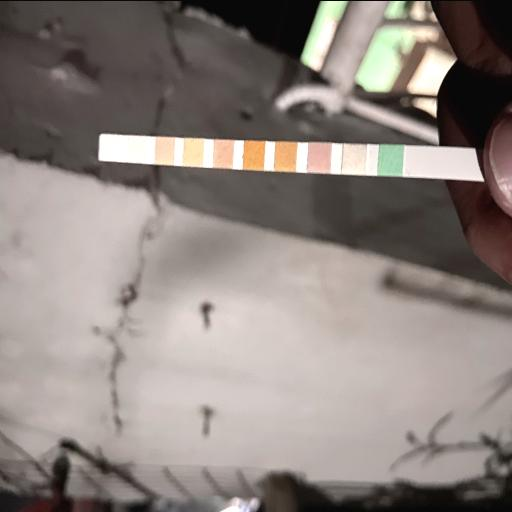Bilirubin: (344, 144, 366, 172)
Blood: (244, 142, 264, 166)
Glucose: (380, 145, 402, 173)
Ketone: (310, 142, 330, 170)
Leukocytes: (101, 134, 117, 158)
Nitrite: (129, 136, 146, 162)
Protein: (184, 139, 202, 163)
SpGravity: (276, 142, 296, 168)
Urobilinogen: (156, 138, 174, 164)
pH: (216, 141, 234, 165)
strip: (99, 132, 479, 180)
